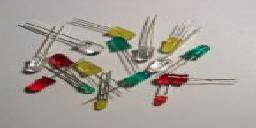LED: (160, 73, 234, 94), (160, 23, 187, 55), (95, 71, 111, 109), (66, 37, 99, 55), (181, 45, 209, 63), (21, 55, 48, 73), (123, 70, 149, 88), (25, 77, 52, 94), (131, 43, 152, 63), (110, 37, 131, 55)
